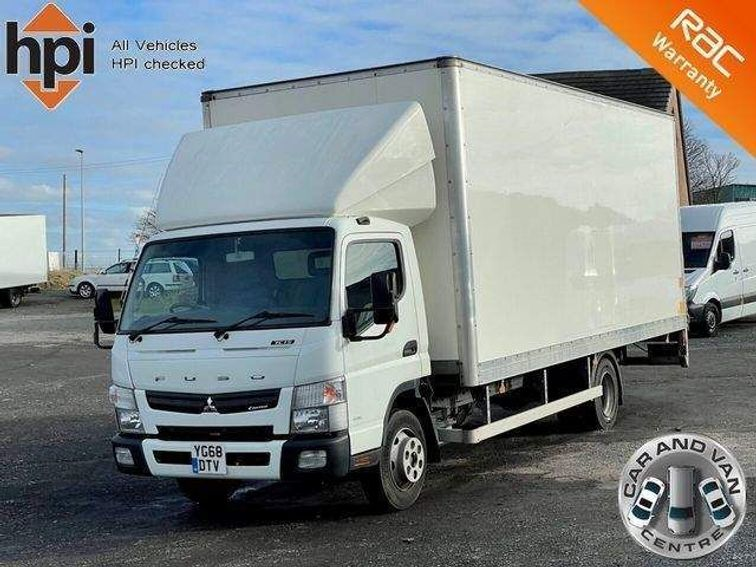Semi: (92, 54, 689, 513)
